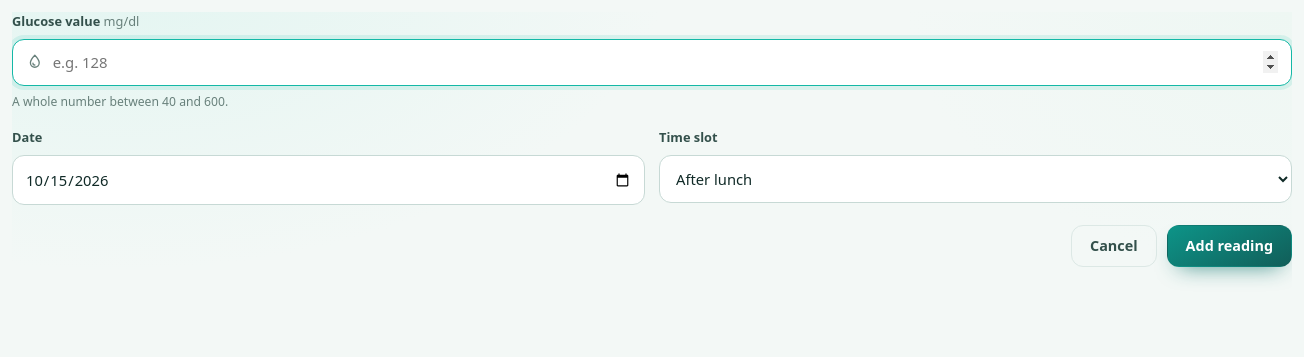
Test case: ReadingForm › shows the required-value message and does not submit
Click the button "Add reading" at (1229, 246), box [1167,225,1292,267]
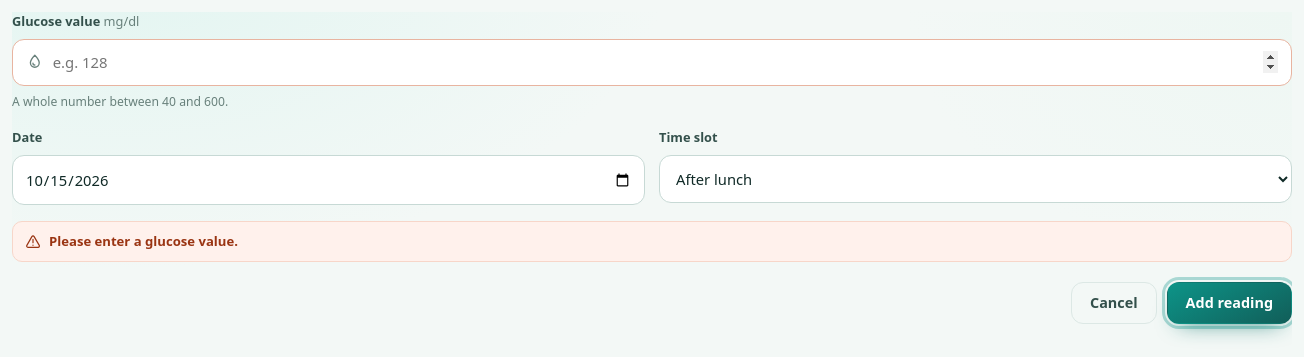
Result: the message reads "Please enter a glucose value." at [49,232,238,250]
